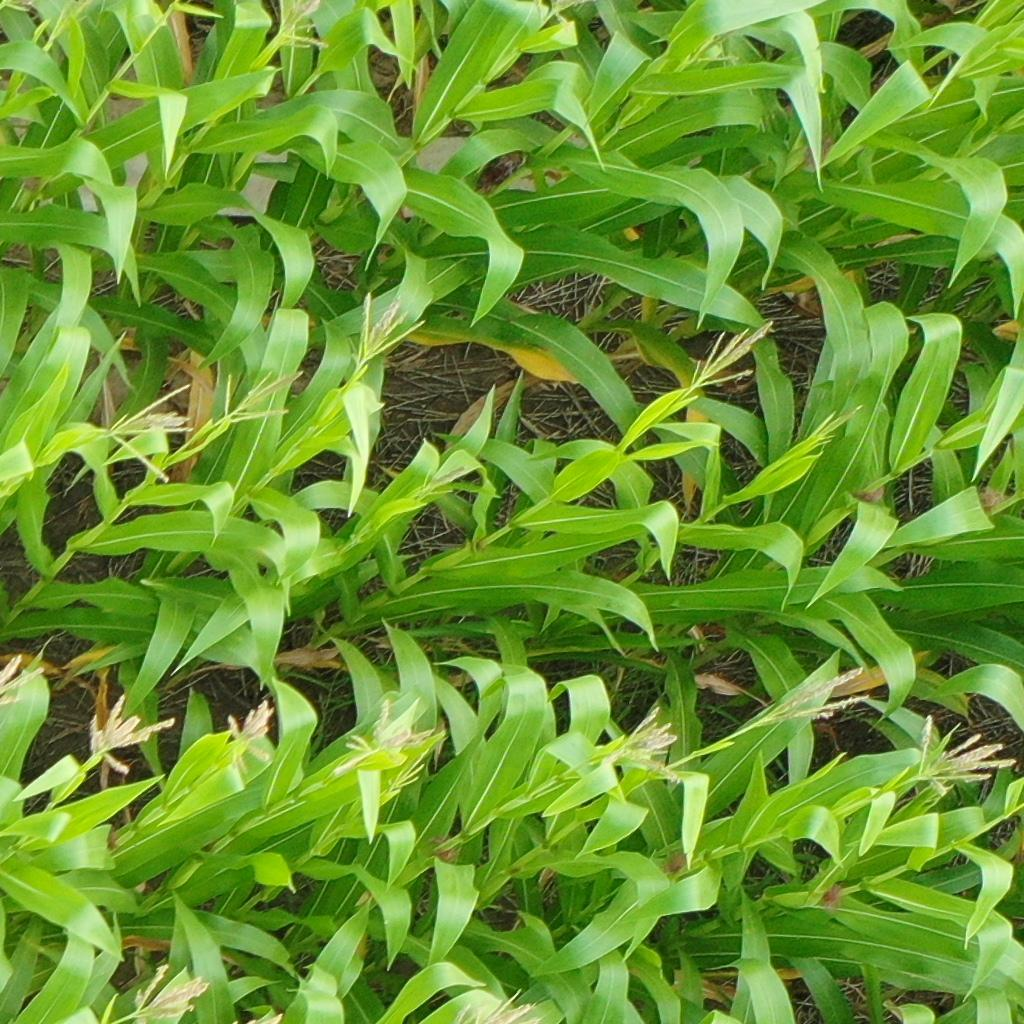Tassel: (107, 381, 198, 487), (914, 713, 1016, 794), (85, 691, 176, 777), (591, 703, 683, 787), (336, 699, 433, 776), (758, 664, 874, 728), (688, 319, 777, 394), (352, 289, 428, 359), (219, 366, 307, 426), (131, 962, 209, 1022), (225, 697, 276, 775), (271, 1, 333, 53), (455, 987, 542, 1024), (809, 401, 866, 451), (1, 653, 47, 709), (690, 28, 744, 64), (388, 751, 432, 794), (533, 1, 597, 26), (48, 1, 90, 38), (422, 463, 465, 499)
